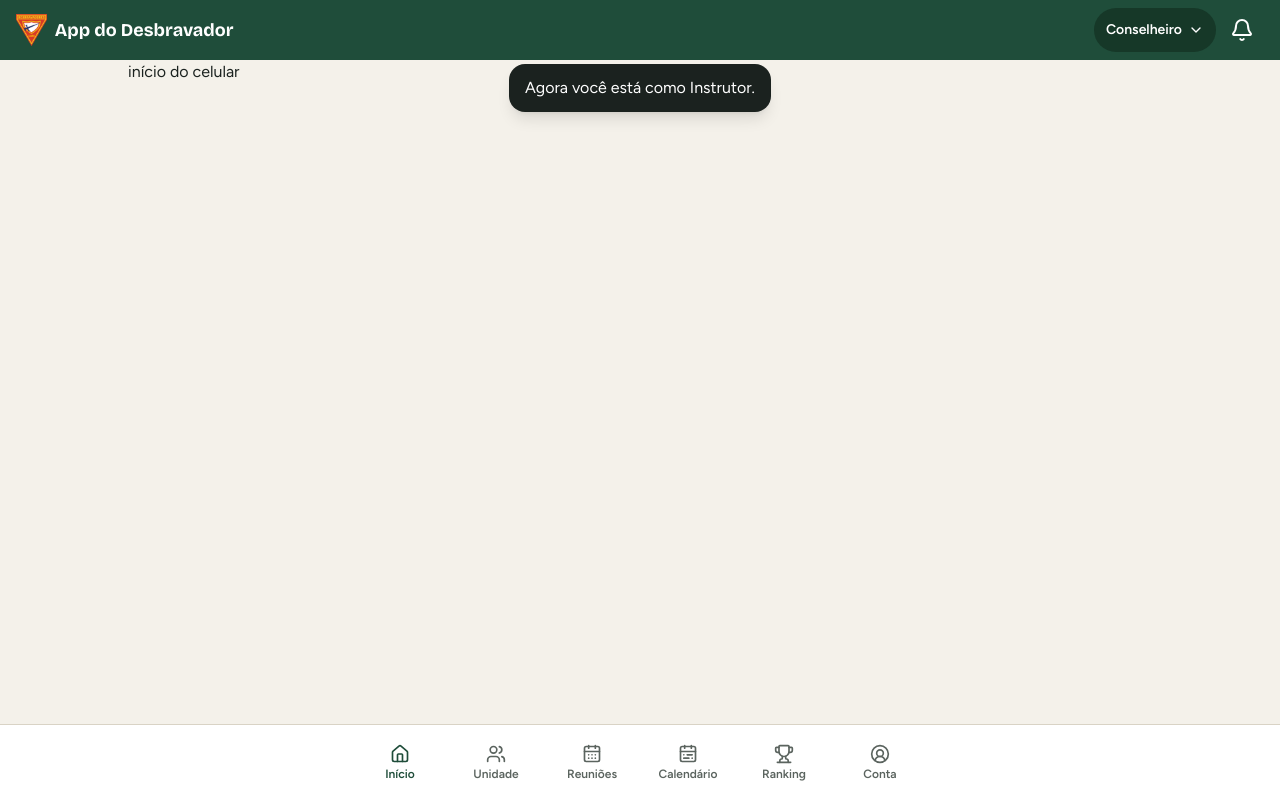
selo do papel › trocar para Adm leva ao painel do Adm, que também tem o selo
The width and height of the screenshot is (1280, 800).
Click the button with aria-label "Papel: Conselheiro. Trocar de papel": (1155, 30) [1094,8,1216,52]
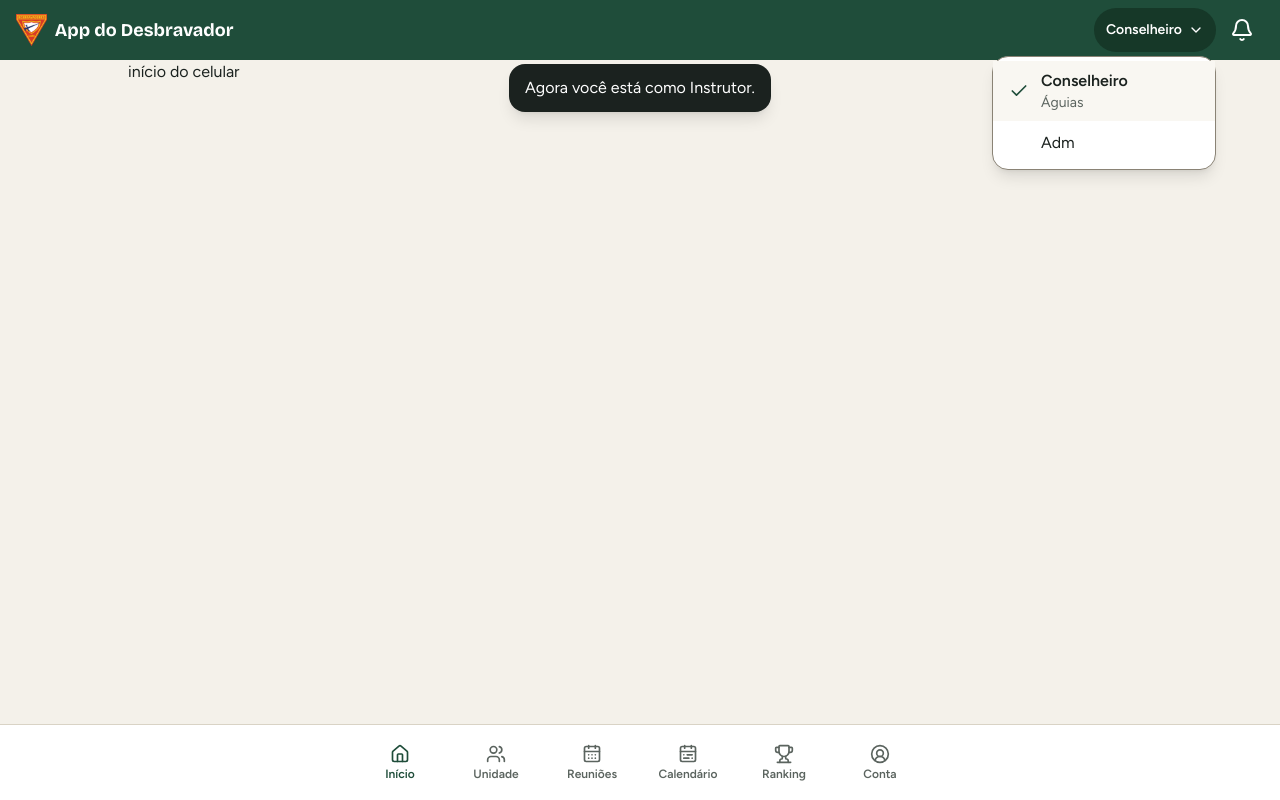
Click the menu item "Adm": (1104, 143) [993,121,1215,165]
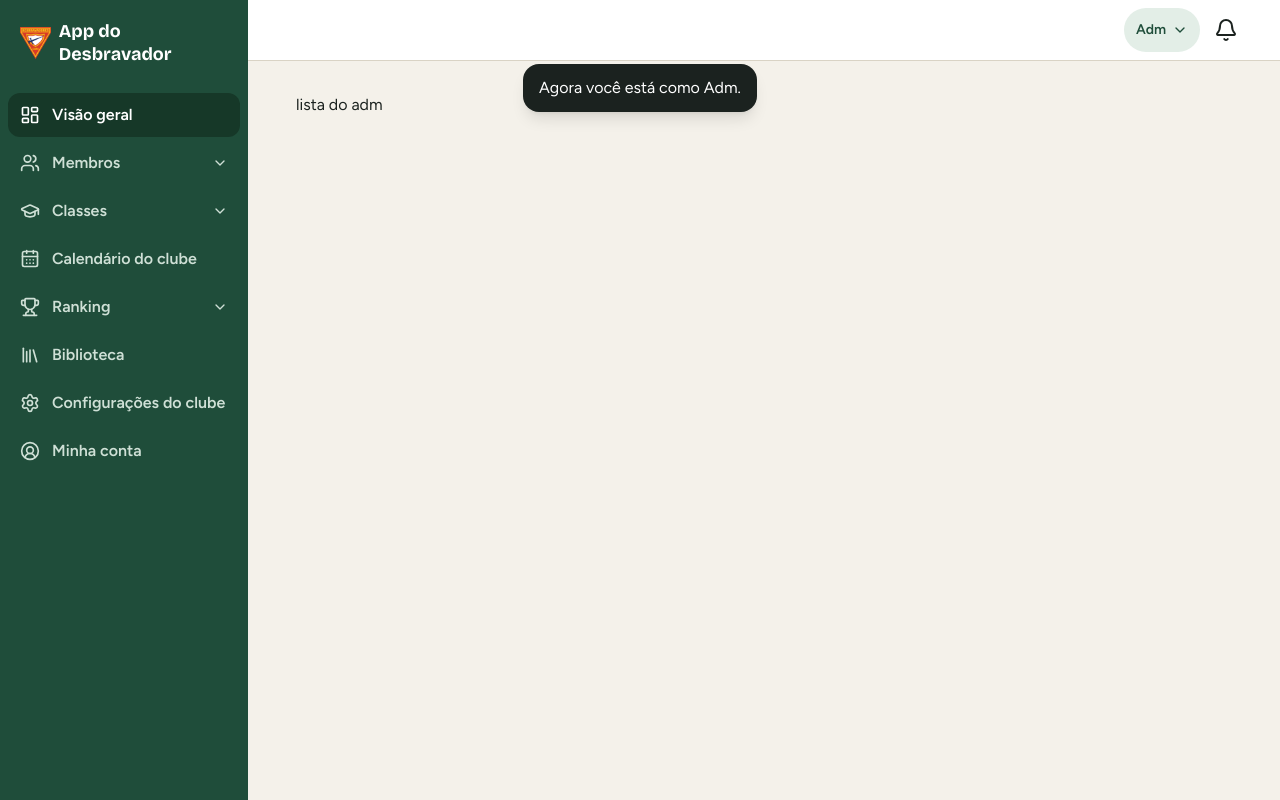
Now the text "lista do adm" is shown, box [296,95,383,114]
Now the button with aria-label "Papel: Adm. Trocar de papel" is shown, box [1124,8,1200,52]
